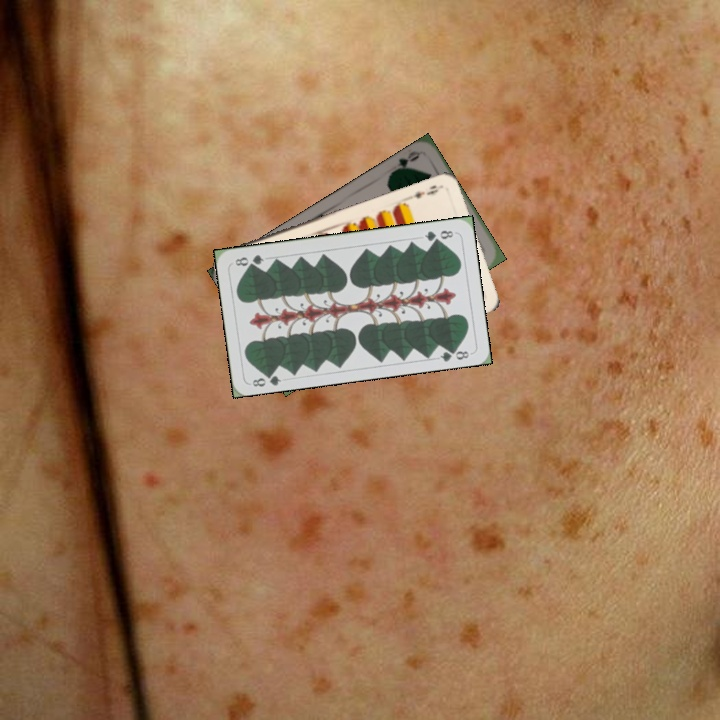E9: (404, 181, 441, 202)
G8: (248, 367, 283, 389), (420, 226, 456, 244)
GO: (387, 147, 422, 177)
